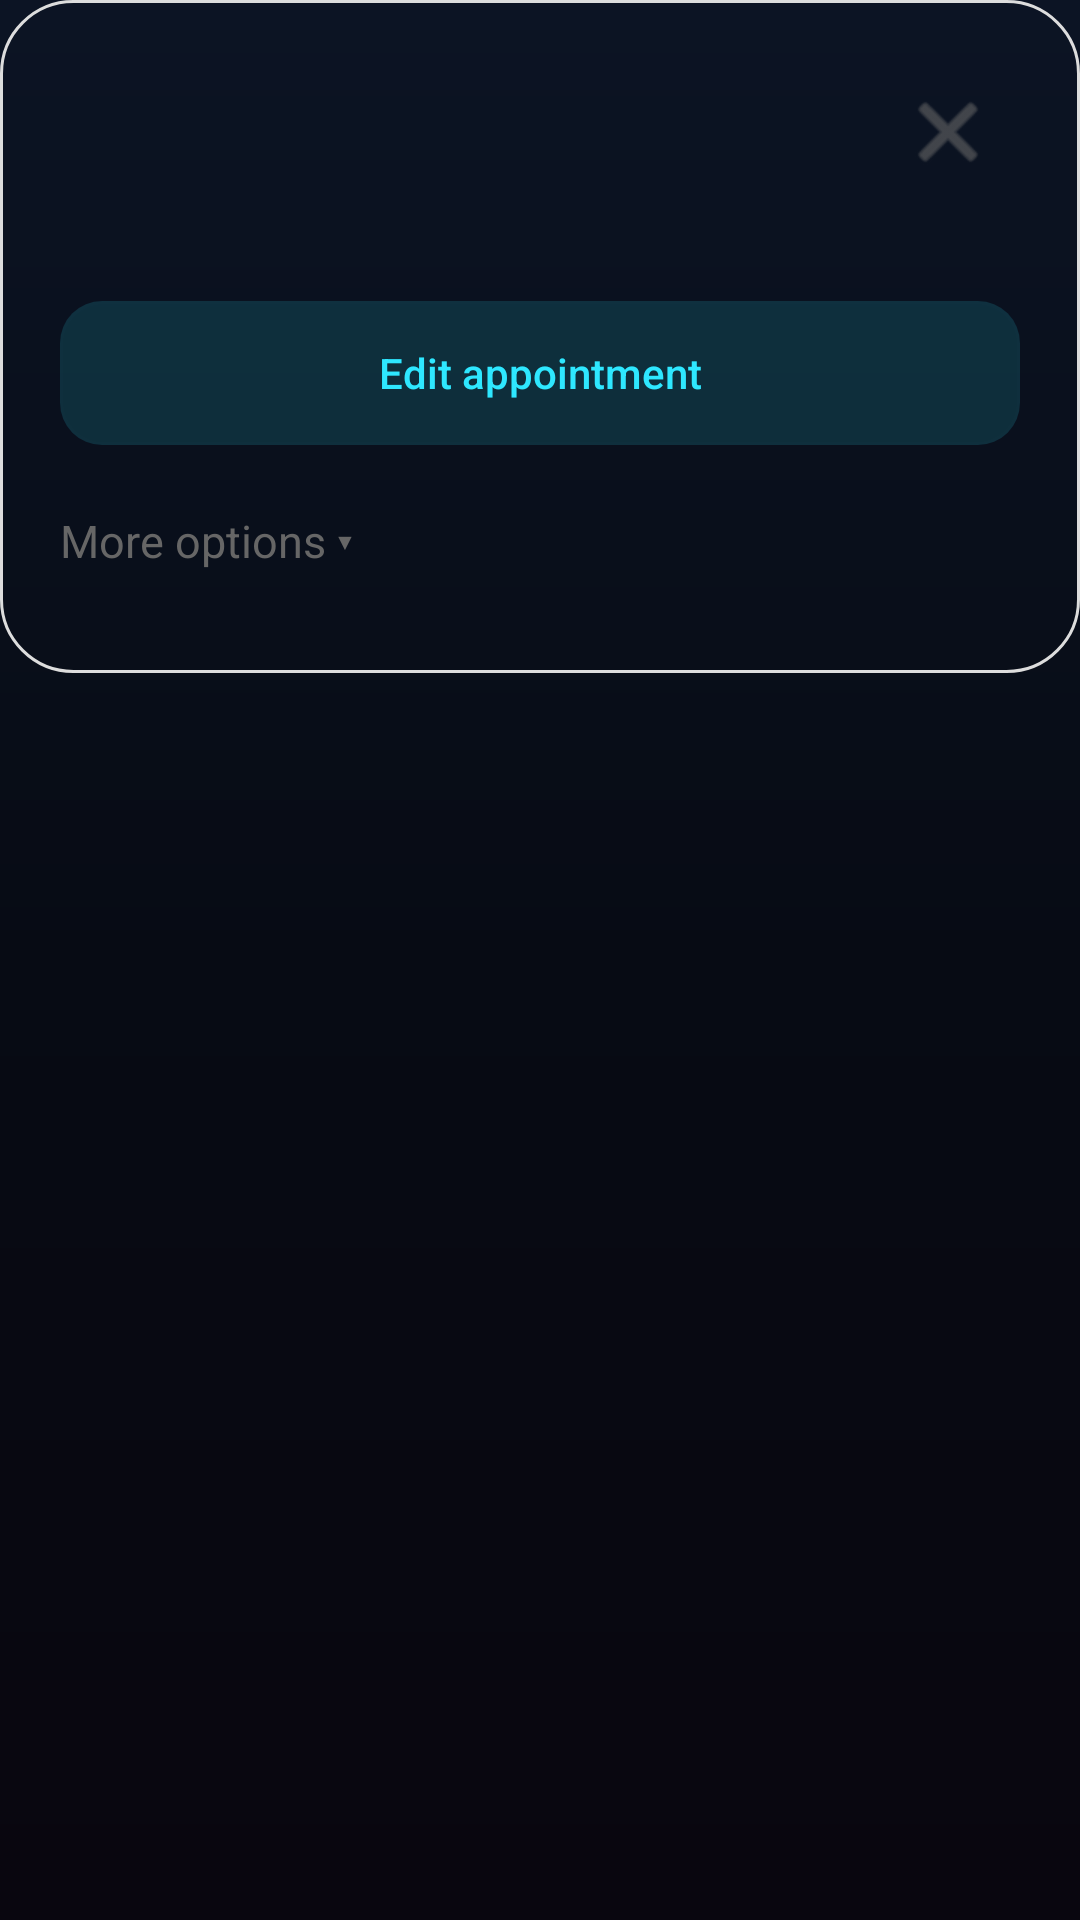

Icons on this 1080×1920 Android screen, each with its box as (x1, y1, x2, y2):
Close: (919, 103, 977, 161)
